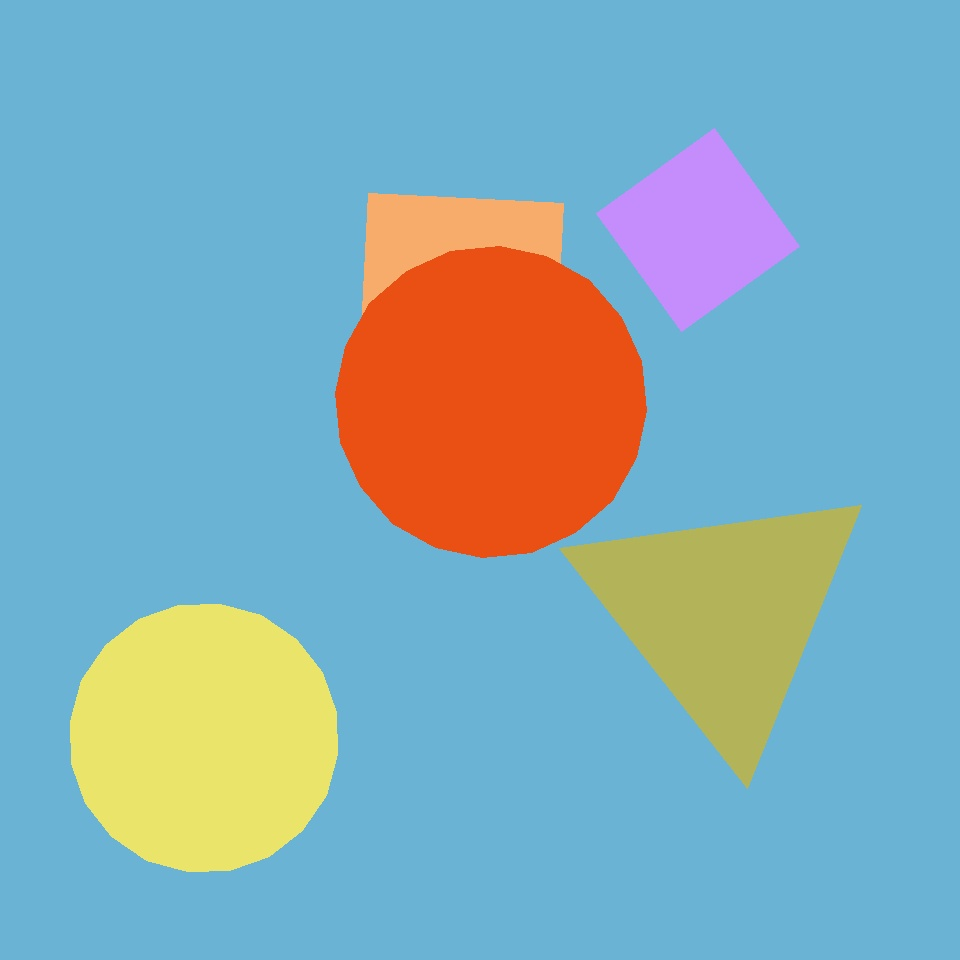circle: (572, 472, 874, 755)
square: (359, 194, 564, 398), (596, 128, 800, 332), (89, 698, 276, 884)
triangle: (336, 246, 646, 558), (70, 605, 338, 872), (496, 736, 683, 923), (153, 212, 339, 398), (636, 176, 792, 331)
